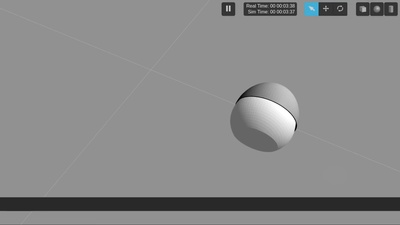mira_robot: (230, 82, 300, 152)
